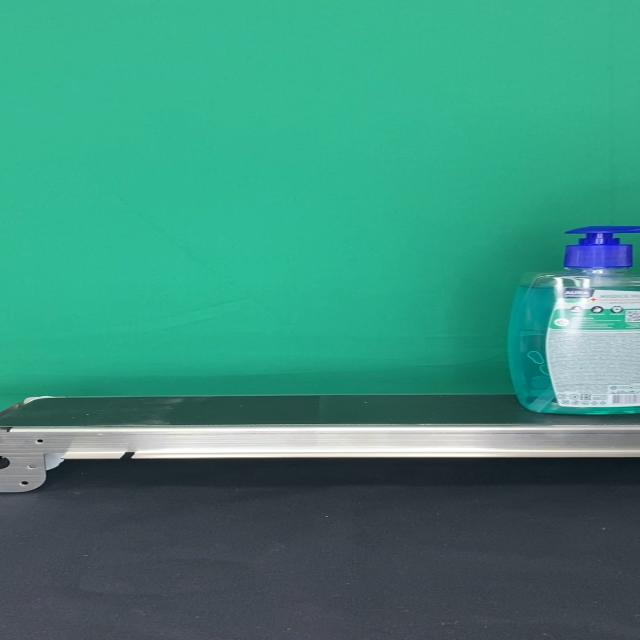Bottle: (507, 226, 640, 414)
Cap: (562, 225, 640, 267)
